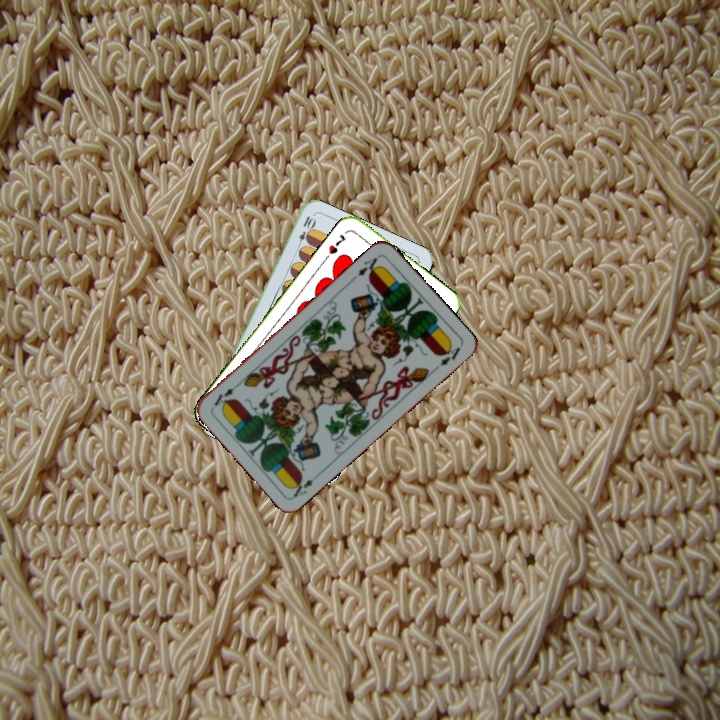E10: (293, 212, 317, 252)
EA: (287, 469, 322, 500), (348, 253, 383, 283)
H7: (324, 230, 349, 257)
